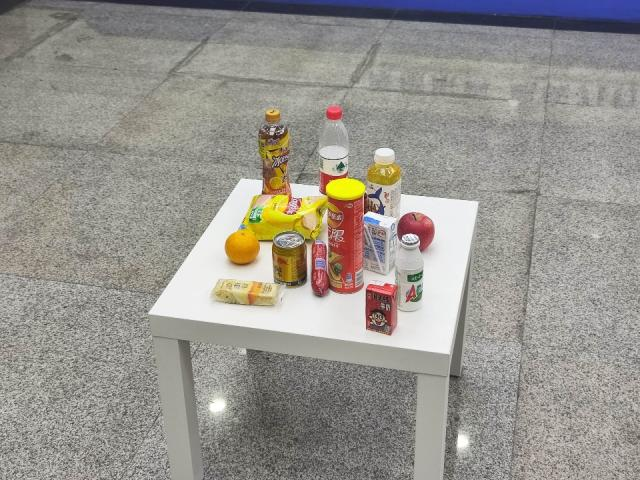Canned_drinks: (271, 230, 308, 289)
